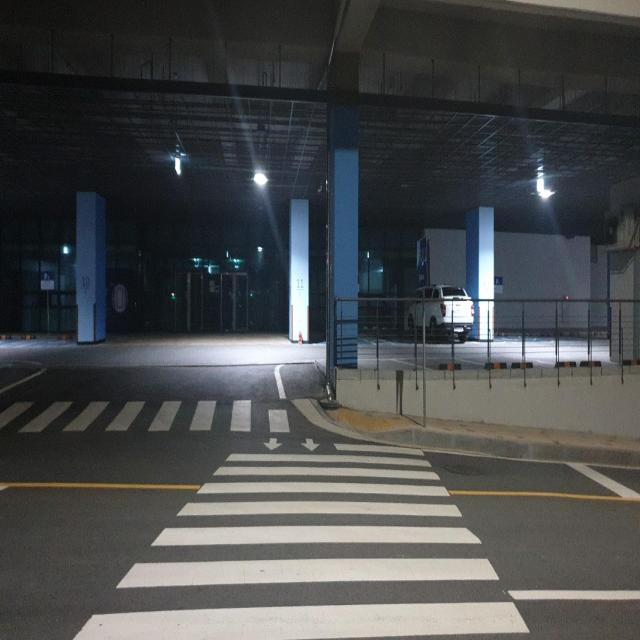횡단보도: (70, 433, 531, 640), (0, 392, 297, 430)
